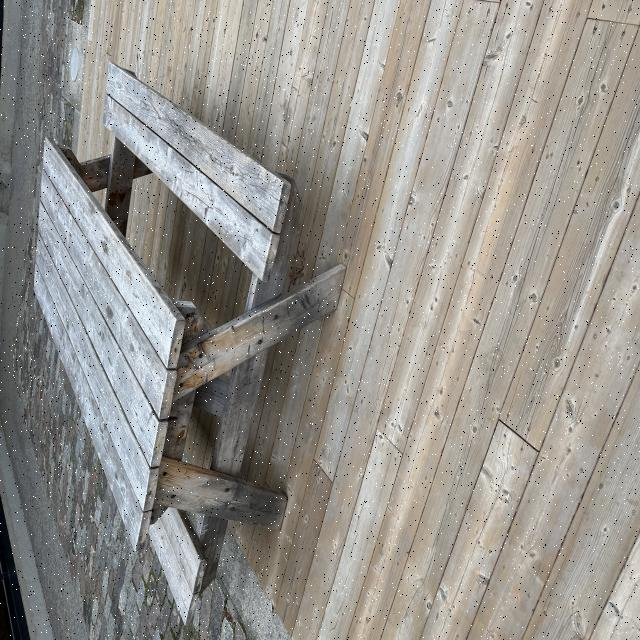Bench: (39, 32, 424, 445)
